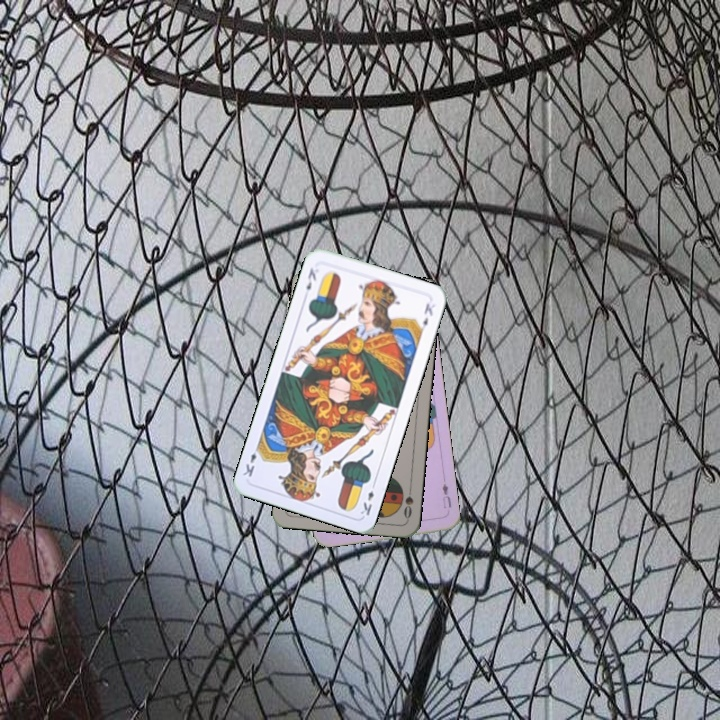EK: (356, 478, 378, 518), (302, 264, 319, 293)
EU: (438, 476, 454, 511)
SO: (400, 481, 416, 522)
